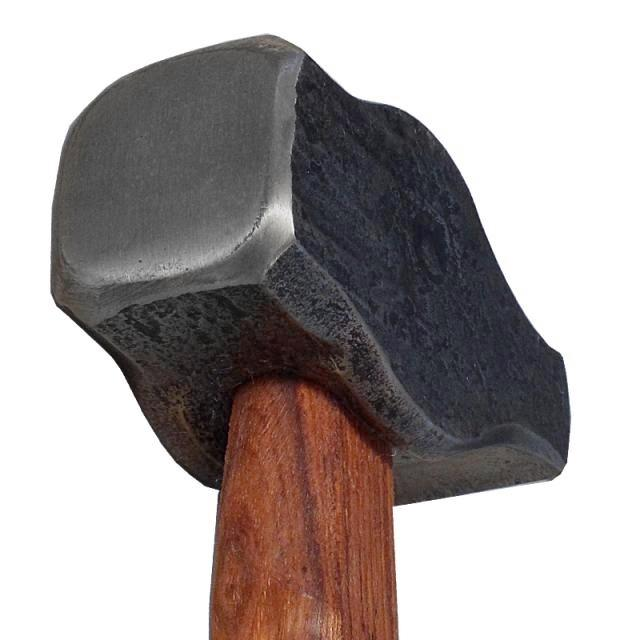hammer: (41, 24, 576, 640)
